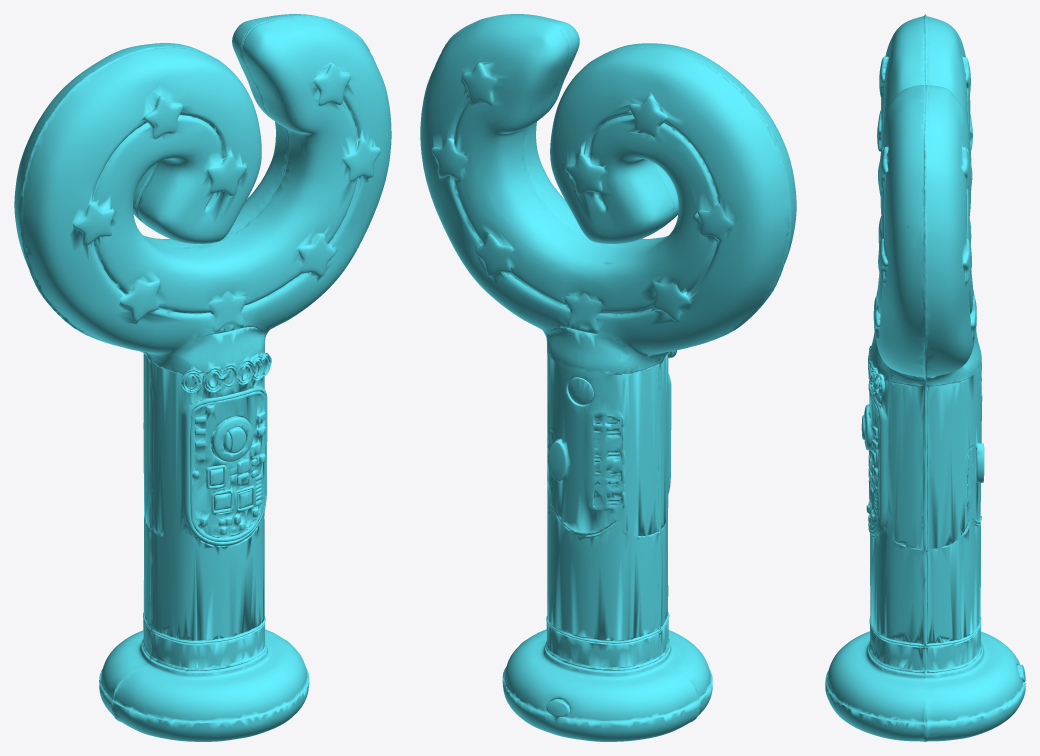
Rendered from LightStick.glb.
3 renders of one model, left to right at view 1: azimuth 30°, elevation 25°; view 2: azimuth 150°, elevation 25°; view 3: azimuth 270°, elevation 25°, orthographic. The views are drawn at different scales.
Visible parts, largest first — view 1: 手燈; view 2: 手燈; view 3: 手燈.
Part boxes in pixels (x1=…): 手燈: x1=14, y1=14, x2=391, y2=741; 手燈: x1=420, y1=14, x2=796, y2=741; 手燈: x1=825, y1=14, x2=1025, y2=741.
Bounding box in the file's own units: 0.028 × 0.049 × 0.0137.
